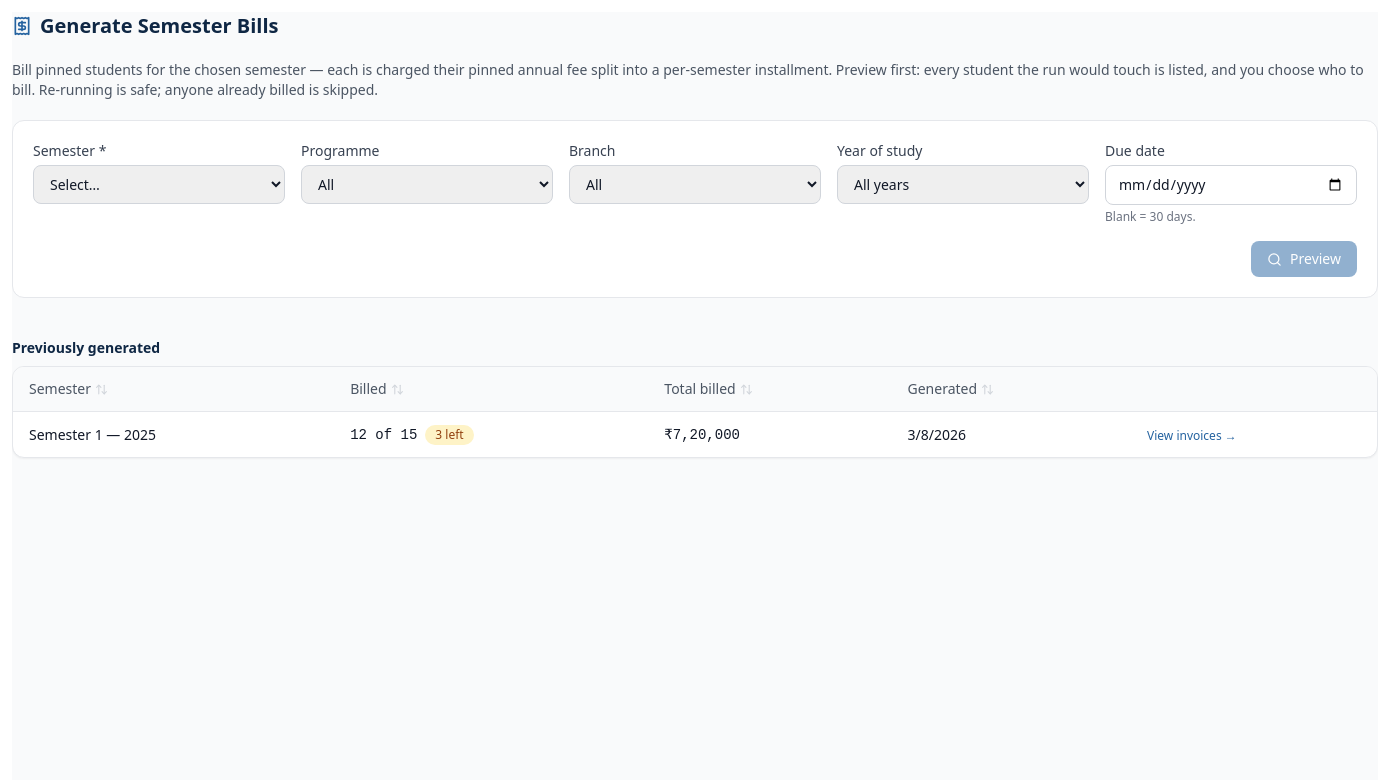
Test case: <GenerateBillsPage /> — preview table › names every student in scope, billable or not
Step 1. Select "Semester 1 — 2025 (active)" in the dropdown labelled "Semester *" → (159, 184), box left=33, top=165, right=285, bottom=204
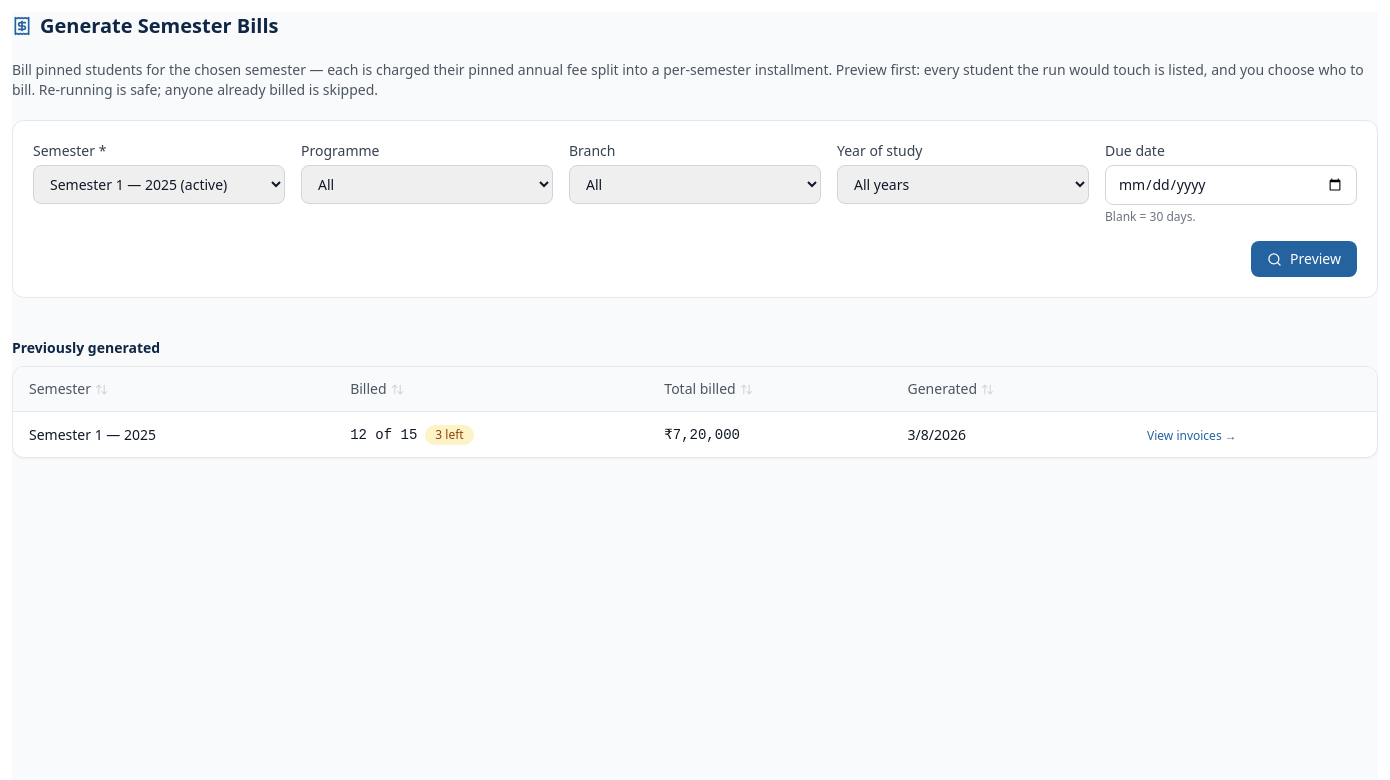
Step 2. Click the button "Preview" → (1304, 259), box left=1251, top=241, right=1357, bottom=277
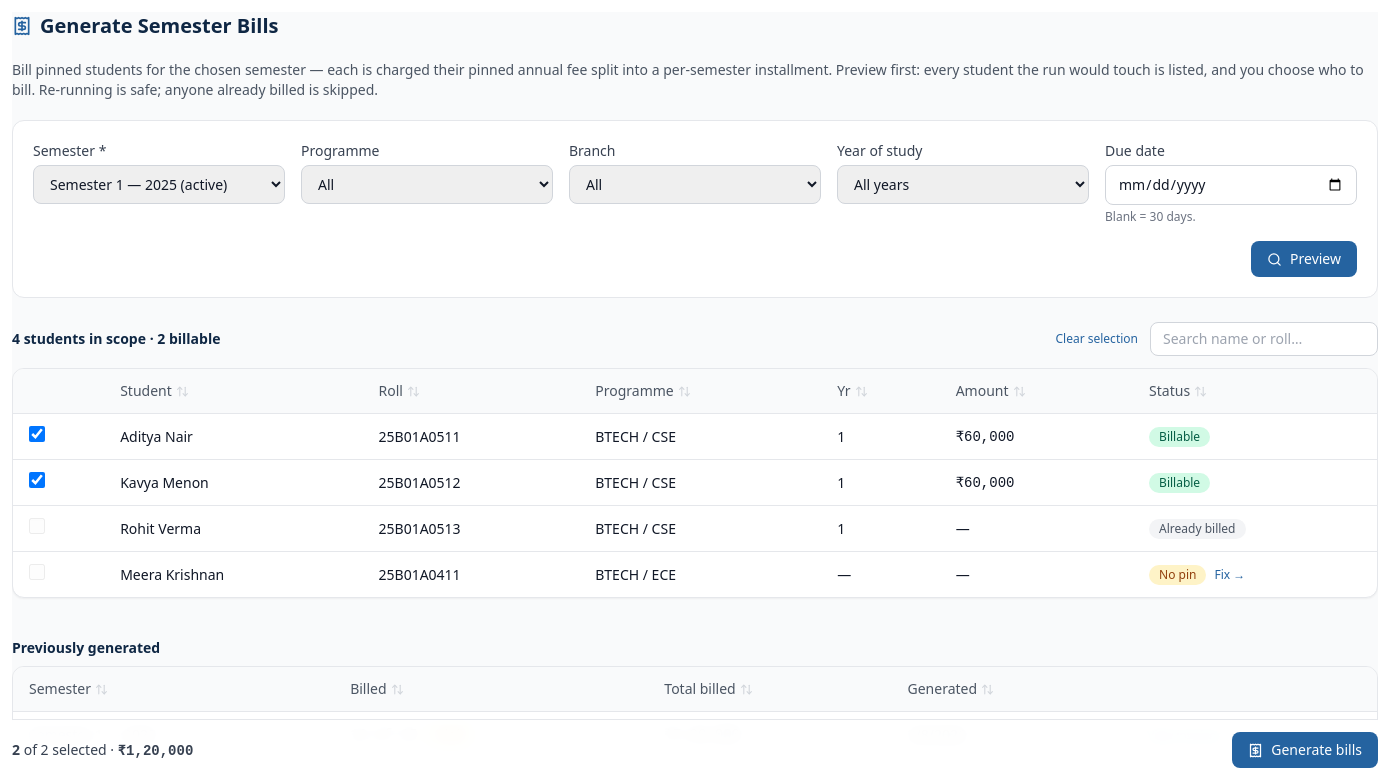
Expected: the text "Aditya Nair" is shown, left=104, top=414, right=362, bottom=460
Expected: the text "Kavya Menon" is shown, left=104, top=460, right=362, bottom=506
Expected: the text "Rohit Verma" is shown, left=104, top=506, right=362, bottom=552
